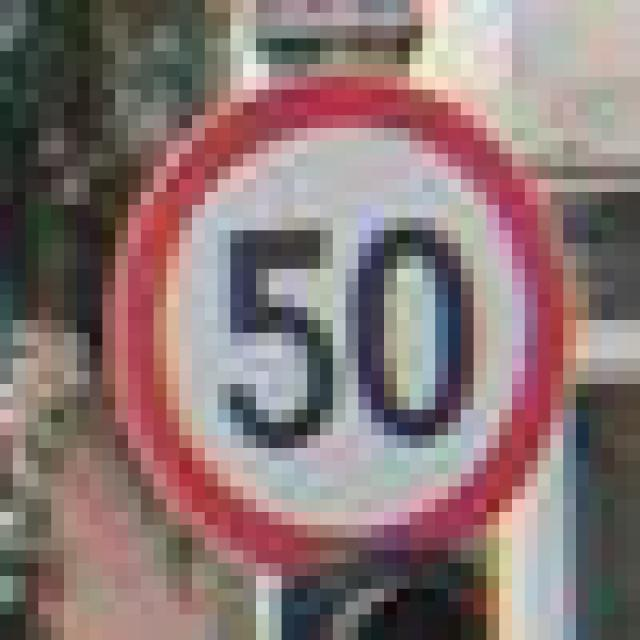SPEED_LIMIT_50: (90, 64, 563, 563)
